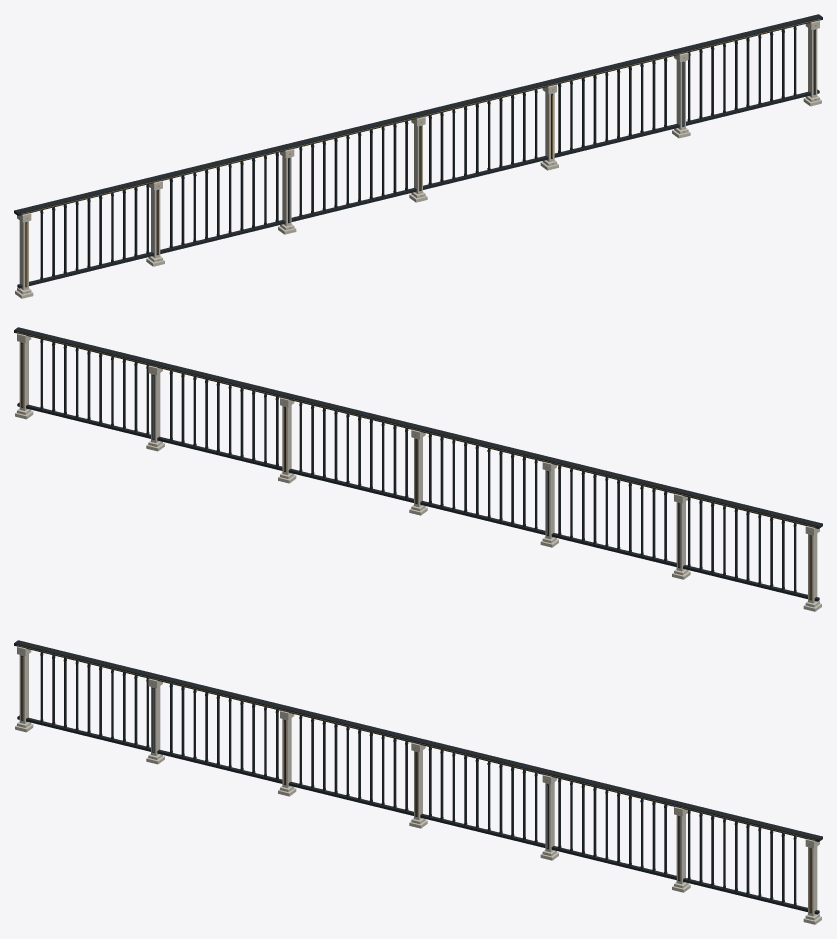
File: SM_Aurelion_KIT_Z04EastRail.fbx
3 renders of one model, top to bottom at view 1: azimuth 30°, elevation 25°; view 2: azimuth 150°, elevation 25°; view 3: azimuth 330°, elevation 25°, orthographic.
Visible parts, largest first — view 1: SM_Aurelion_KIT_Z04EastRail; view 2: SM_Aurelion_KIT_Z04EastRail; view 3: SM_Aurelion_KIT_Z04EastRail.
Boxes of the visible parts, <box> form: SM_Aurelion_KIT_Z04EastRail: <box>14,14,822,298</box>; SM_Aurelion_KIT_Z04EastRail: <box>14,327,822,611</box>; SM_Aurelion_KIT_Z04EastRail: <box>14,640,822,924</box>.
Size of the model in its own units: 1090 by 16 by 110.
